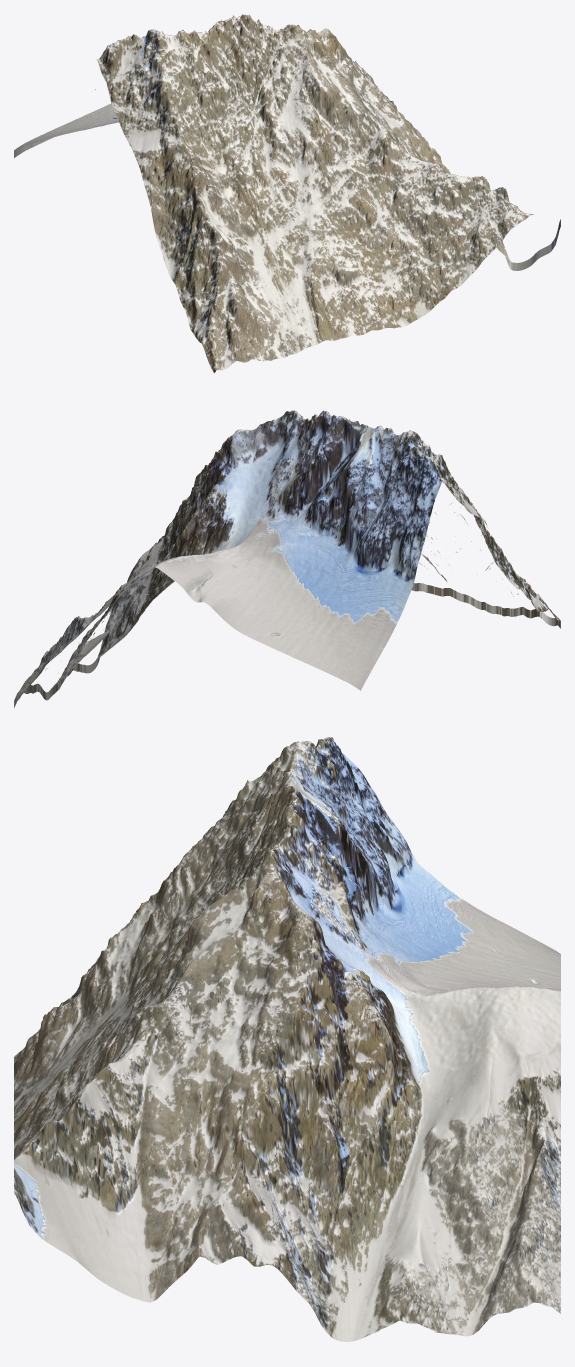
The model's file is dufourspitze_near.glb.
The picture shows the model from 3 angles, top to bottom: view 1: azimuth 30°, elevation 25°; view 2: azimuth 150°, elevation 25°; view 3: azimuth 270°, elevation 25°; orthographic projection. The views are drawn at different scales.
Parts seen in each view (by area): view 1: terrain; view 2: terrain; view 3: terrain.
Part boxes in pixels (x1,y1,x2,y2): terrain: [14, 14, 560, 373]; terrain: [14, 410, 560, 707]; terrain: [14, 737, 560, 1341].
Bounding box in the file's own units: 360 × 299 × 360.
1 material, 1 textured.
